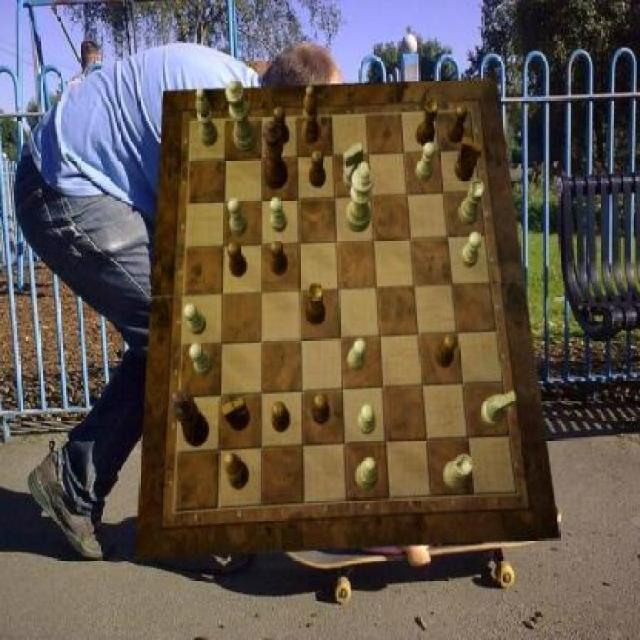bishop: (302, 86, 319, 145), (225, 452, 249, 490)
black-bishop: (171, 389, 208, 447)
black-king: (454, 137, 481, 182), (223, 395, 251, 430)
black-knight: (434, 332, 457, 367), (448, 106, 468, 145), (228, 242, 248, 278), (272, 401, 292, 434), (274, 108, 291, 146), (309, 151, 326, 188), (271, 240, 288, 276), (311, 394, 330, 424)
black-pawn: (263, 120, 288, 191)
black-queen: (416, 99, 440, 146), (304, 283, 326, 325)
black-rook: (195, 88, 218, 146), (356, 457, 378, 491)
white-bishop: (346, 163, 376, 232)
white-king: (482, 389, 518, 427), (343, 145, 363, 192)
white-knight: (191, 343, 214, 377), (417, 143, 437, 182), (228, 199, 248, 236), (462, 232, 482, 268), (185, 305, 207, 337), (270, 197, 288, 231), (348, 338, 365, 371), (359, 404, 376, 436)
white-pawn: (226, 78, 257, 152)
white-queen: (460, 180, 486, 226), (443, 454, 472, 490)
